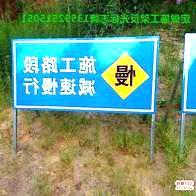sign: (12, 41, 155, 112)
